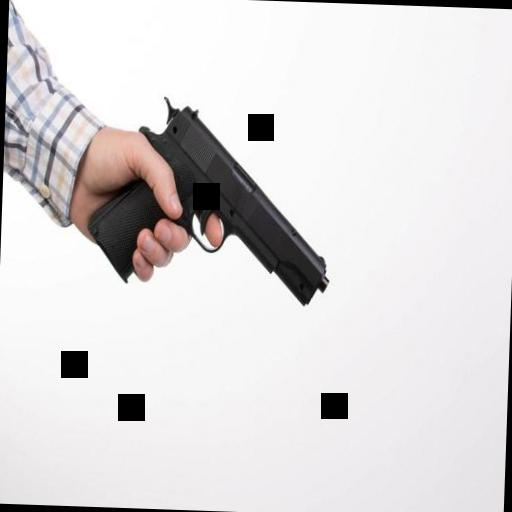Handgun: (82, 90, 334, 310)
